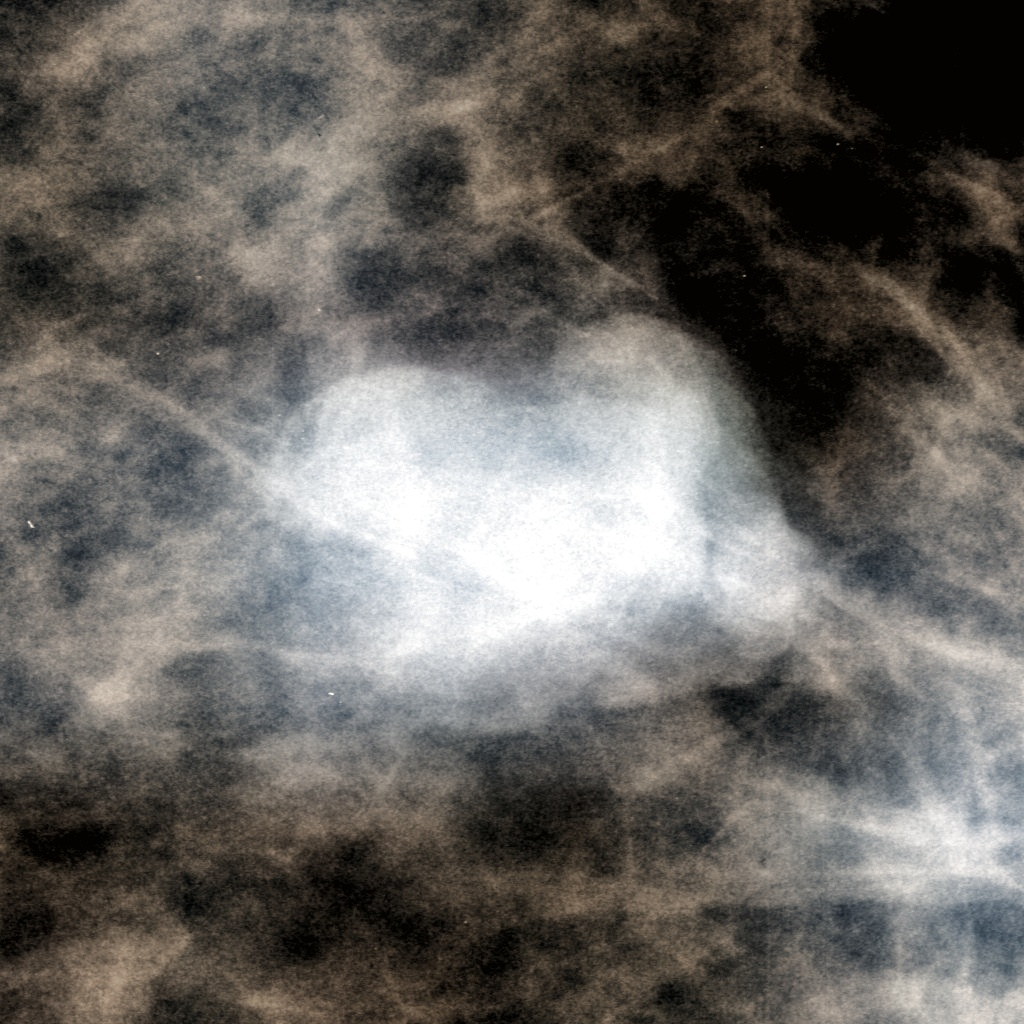tumor: (297, 322, 727, 702)
